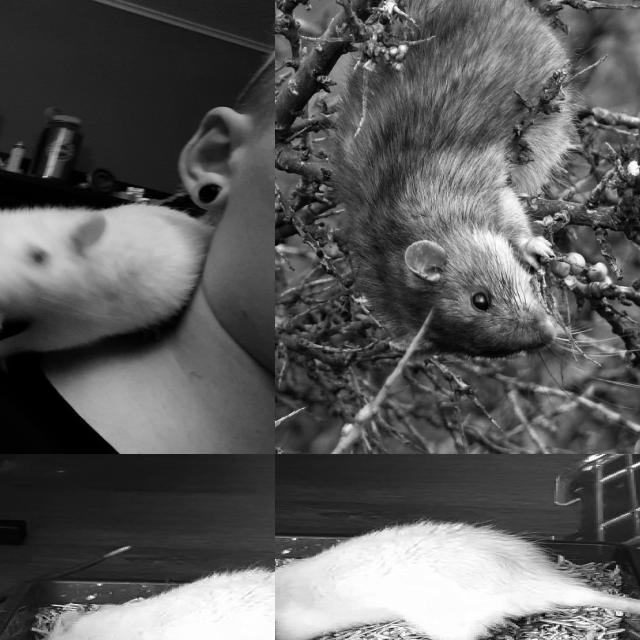rat: (337, 0, 570, 357), (275, 518, 582, 640), (0, 199, 212, 373), (31, 567, 275, 640)
